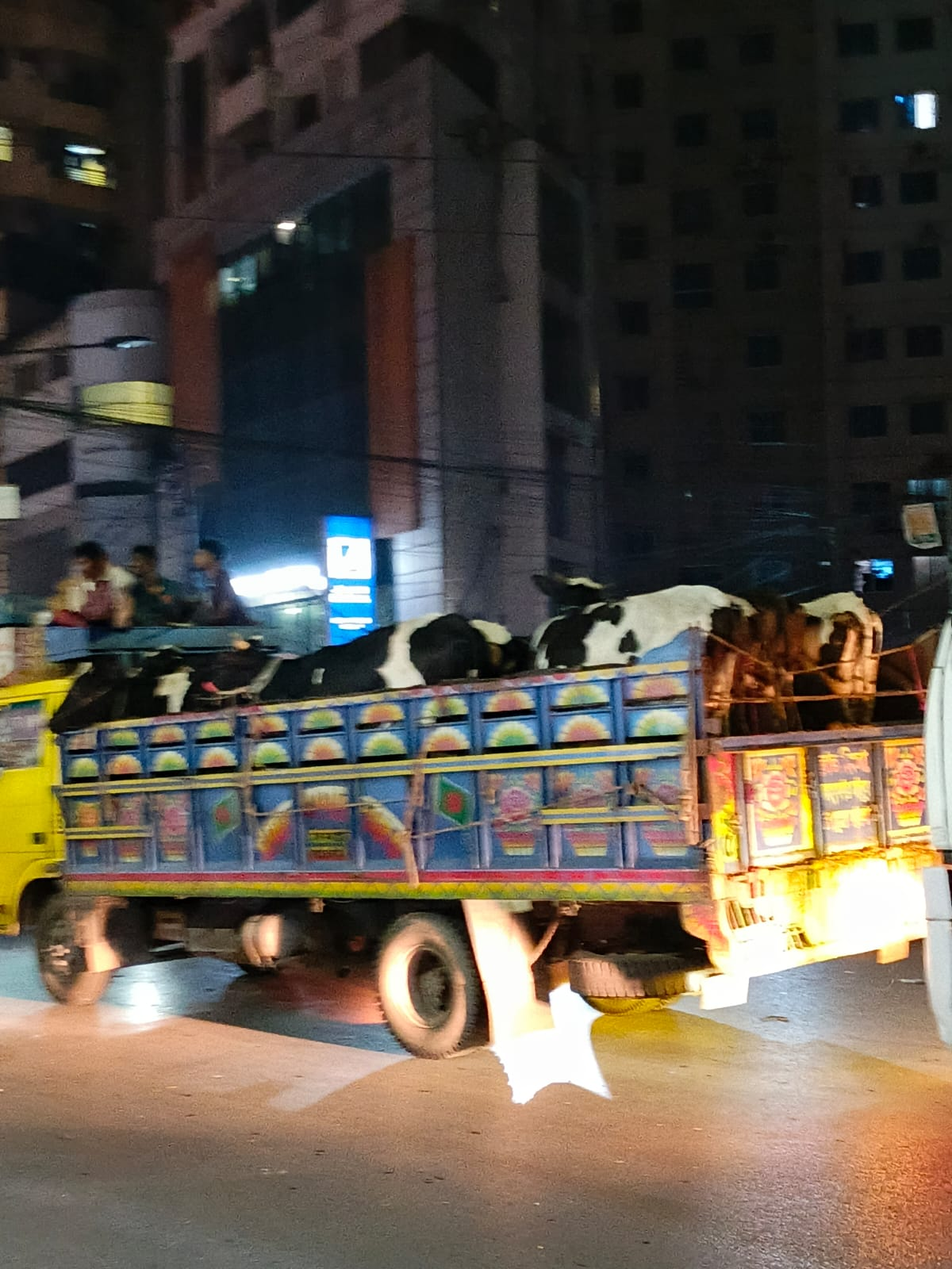Truck: (4, 604, 947, 1054)
